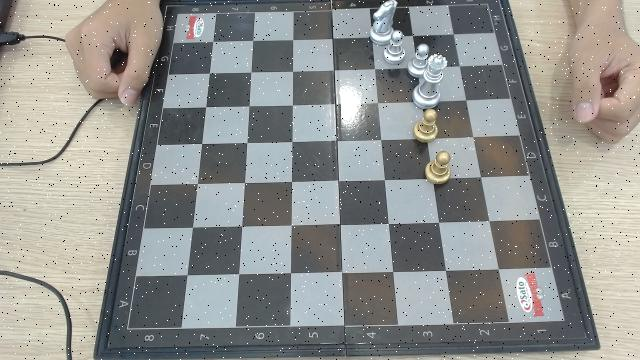black_pawn: (424, 151, 452, 186), (413, 109, 439, 144)
white_knight: (368, 0, 397, 42)
white_pawn: (384, 30, 405, 64), (408, 41, 428, 76)
white_queen: (424, 55, 446, 107)
